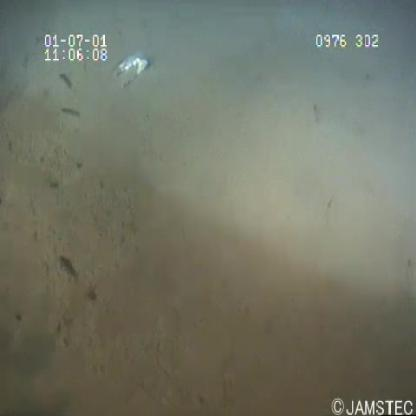Rác: (109, 45, 158, 99)
